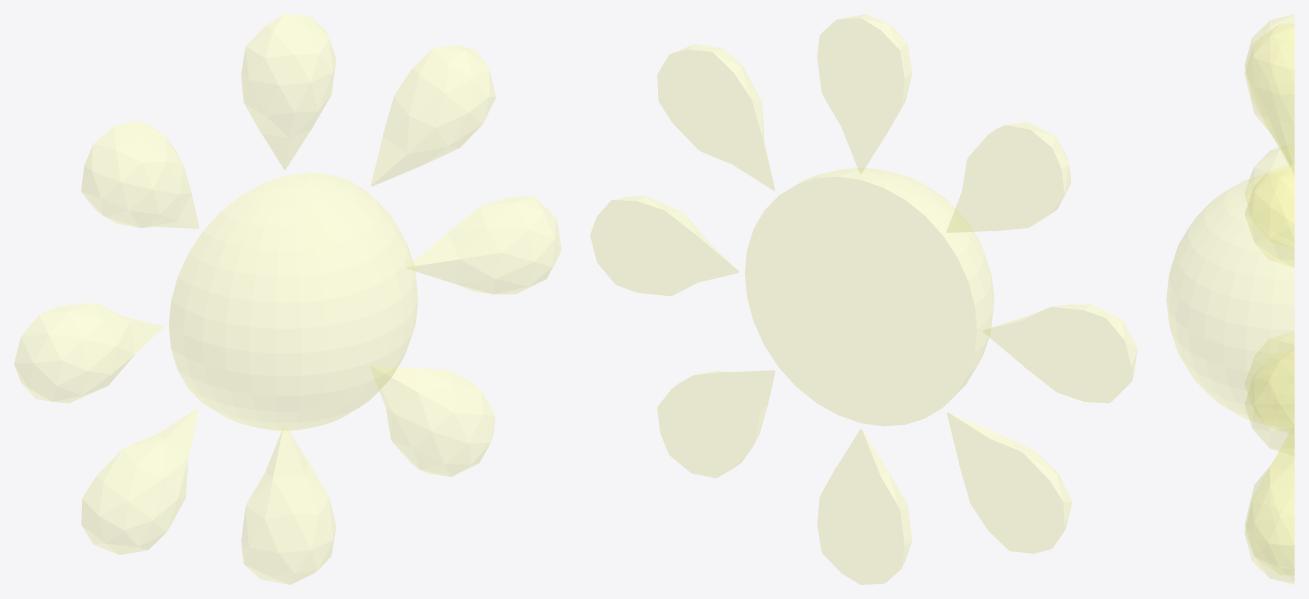
The model's file is point_light.gltf.
3 renders of one model, left to right at view 1: azimuth 30°, elevation 25°; view 2: azimuth 150°, elevation 25°; view 3: azimuth 270°, elevation 25°, orthographic. The views are drawn at different scales.
Visible parts, largest first — view 1: point_light; view 2: point_light; view 3: point_light.
Boxes of the visible parts, <box> form: point_light: <box>14,14,561,584</box>; point_light: <box>590,14,1137,584</box>; point_light: <box>1166,14,1294,584</box>.
Size of the model in its own units: 0.0578 by 0.0578 by 0.0123.
